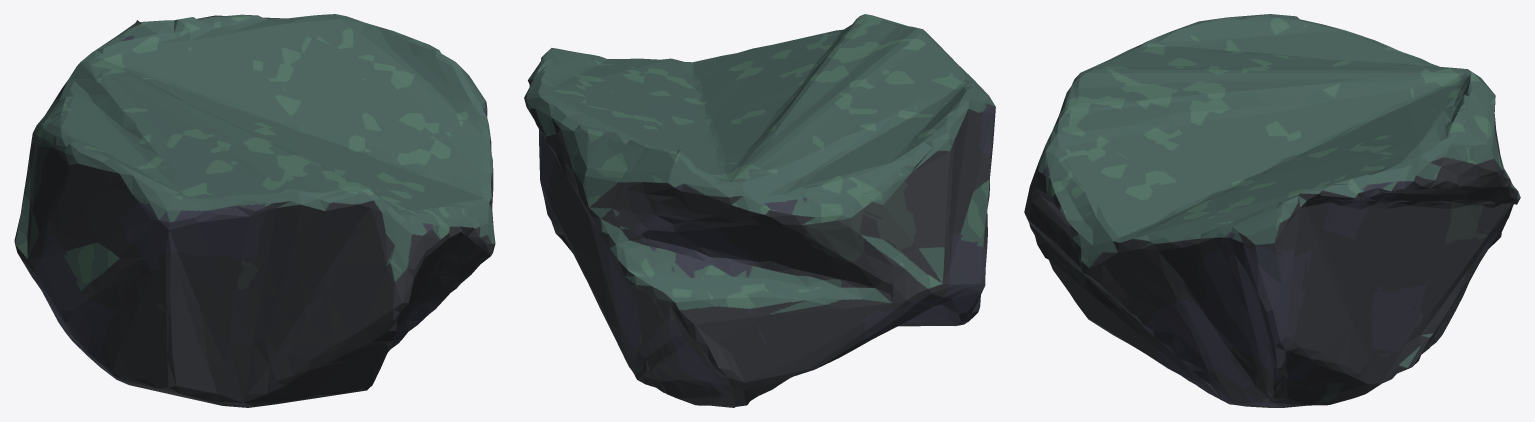
Rendered from ROCK_D.fbx.
3 views of the same model, side by side, from view 1: azimuth 30°, elevation 25°; view 2: azimuth 150°, elevation 25°; view 3: azimuth 270°, elevation 25° (orthographic). The views are drawn at different scales.
Parts seen in each view (by area): view 1: ROCK_D; view 2: ROCK_D; view 3: ROCK_D.
Boxes of the visible parts, x1,y1,x2,y2 form: ROCK_D: [14, 14, 495, 407]; ROCK_D: [524, 14, 995, 407]; ROCK_D: [1024, 14, 1520, 407].
Bounding box in the file's own units: 480 × 309 × 495.
